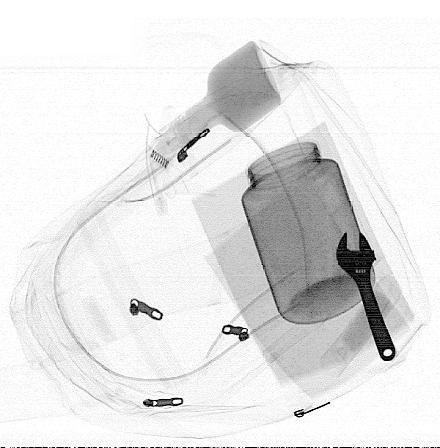Wrench: (335, 226, 397, 363)
